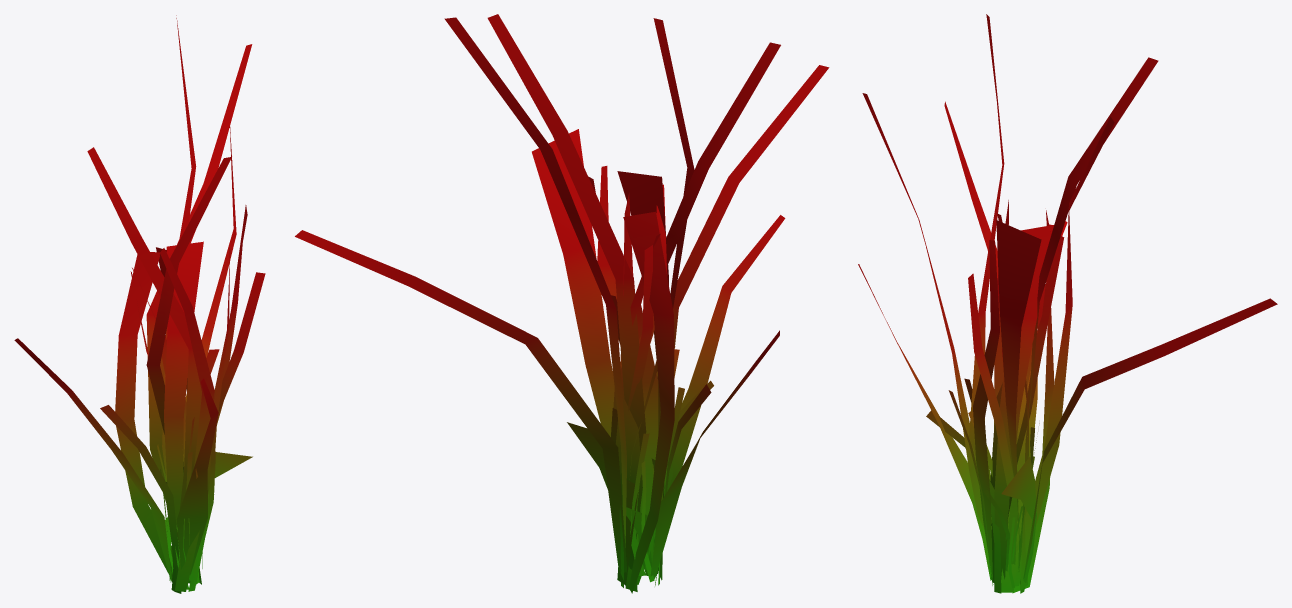
File: Var7_LOD2.fbx
3 views of the same model, side by side, from view 1: azimuth 30°, elevation 25°; view 2: azimuth 150°, elevation 25°; view 3: azimuth 270°, elevation 25° (orthographic). The views are drawn at different scales.
Visible parts, largest first — view 1: _31cc_Var7_LOD2; view 2: _31cc_Var7_LOD2; view 3: _31cc_Var7_LOD2.
Part boxes in pixels (x1,y1,x2,y2): _31cc_Var7_LOD2: (14,15,265,593); _31cc_Var7_LOD2: (295,14,829,593); _31cc_Var7_LOD2: (858,14,1277,593).
Size of the model in its own units: 30.27 by 47.65 by 32.27.
